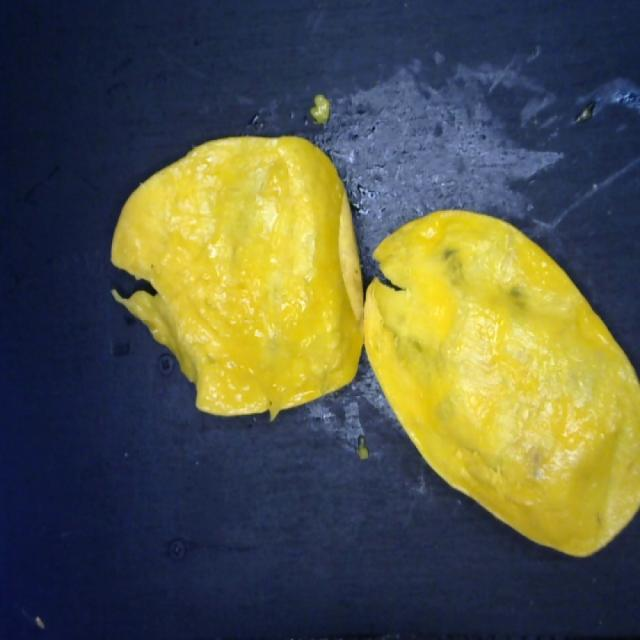biodegradable: (100, 127, 640, 565)
